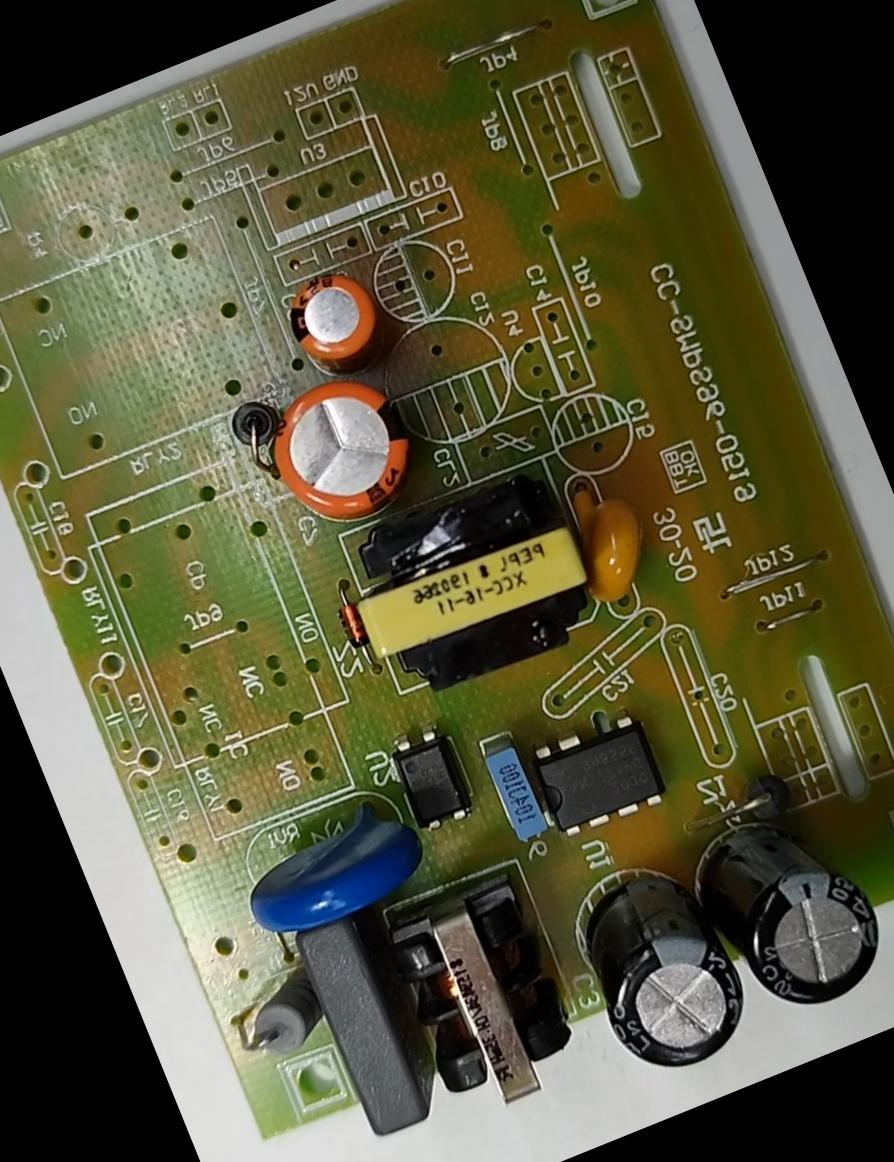Cap1: (242, 349, 450, 551)
Cap2: (260, 248, 406, 392)
Cap3: (539, 820, 783, 1095)
Cap4: (660, 772, 893, 1048)
MOSFET: (509, 694, 680, 855)
Mov: (214, 774, 442, 959)
Resistor: (219, 960, 349, 1080)
Transformer: (324, 446, 629, 716), (368, 859, 602, 1132)
